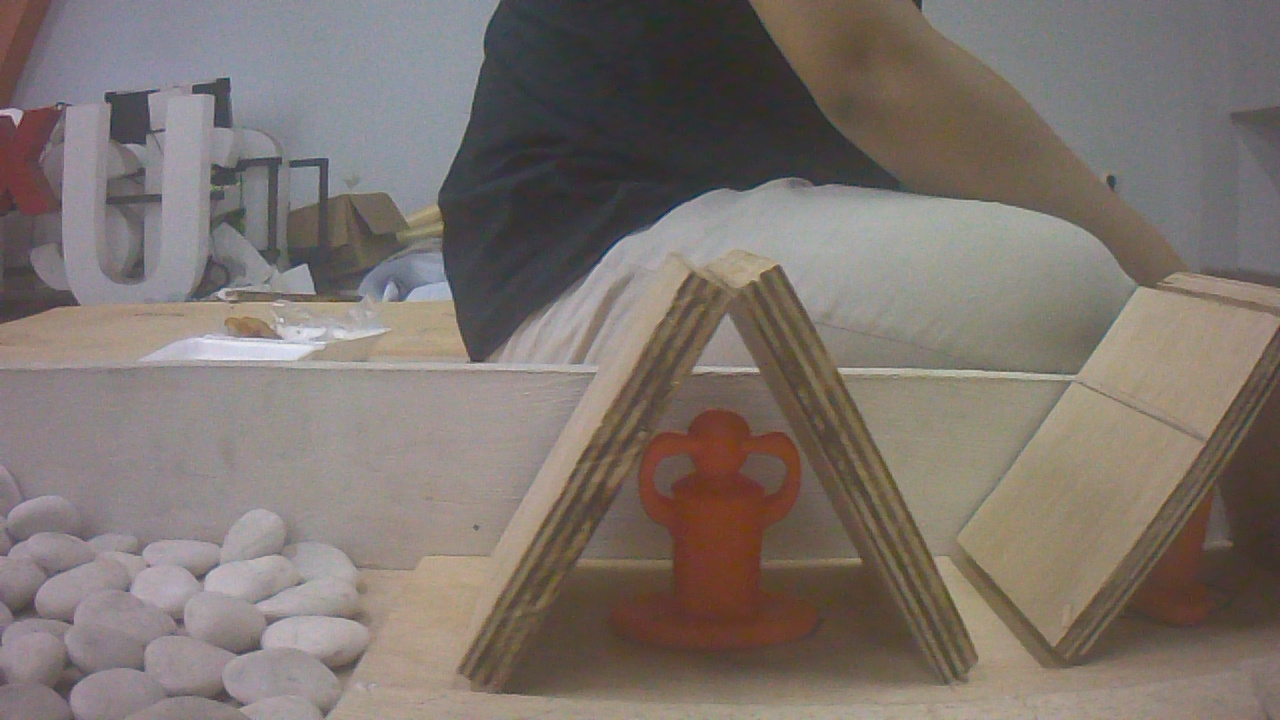real: (615, 409, 809, 653)
